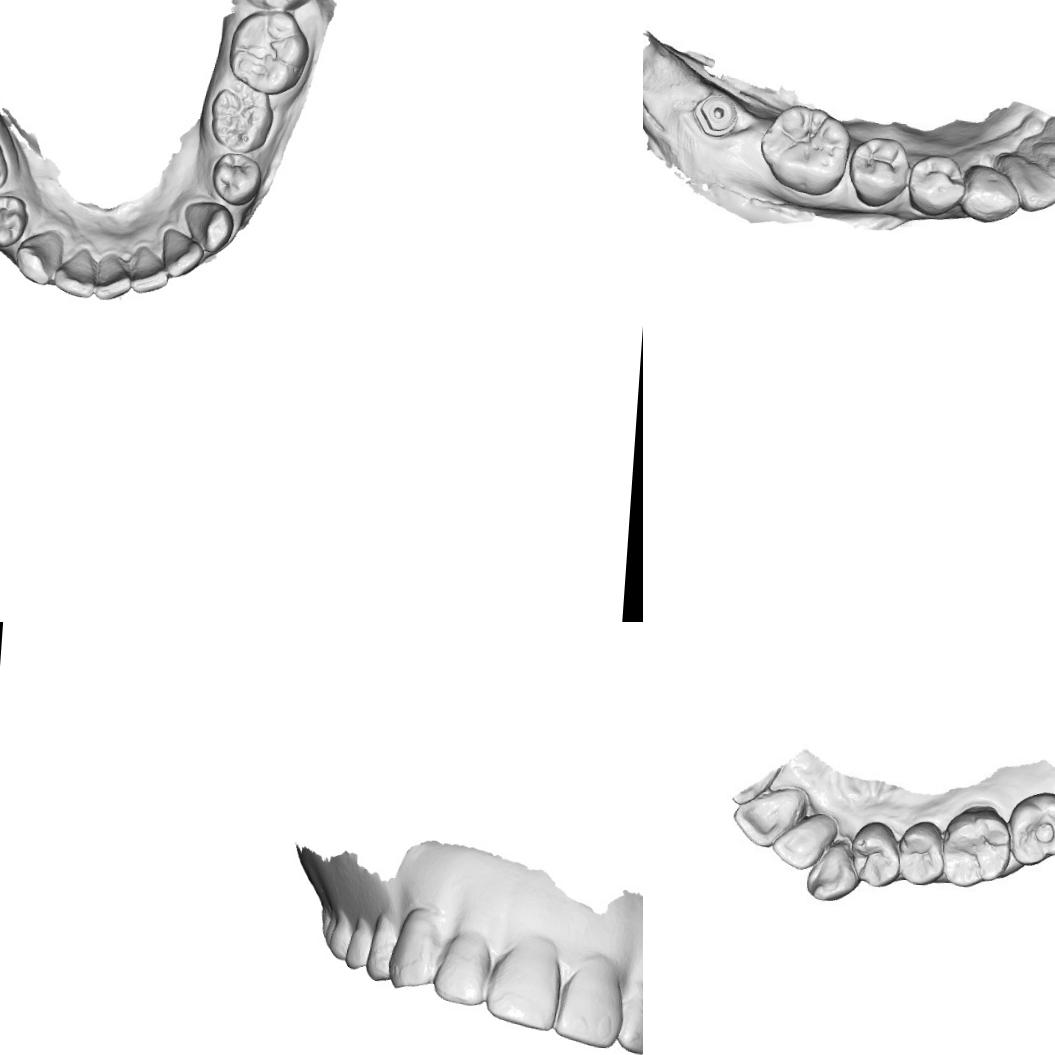canine: (387, 903, 438, 990), (958, 159, 1023, 226), (805, 842, 858, 904), (13, 226, 66, 287), (180, 198, 236, 254)
implant: (686, 88, 744, 143)
incisor: (482, 935, 562, 1032), (551, 958, 625, 1052), (430, 930, 496, 1008), (728, 786, 805, 849), (769, 814, 831, 871), (999, 150, 1055, 212), (49, 244, 98, 302), (158, 226, 206, 279), (88, 255, 136, 302), (616, 981, 643, 1055), (127, 252, 171, 294), (1030, 132, 1055, 194)
molar: (763, 102, 851, 198), (224, 6, 314, 98), (940, 802, 1014, 892), (206, 80, 277, 156), (1003, 787, 1055, 870), (324, 912, 352, 964)
premolar: (851, 134, 909, 209), (893, 815, 949, 888), (847, 820, 904, 890), (907, 153, 962, 220), (207, 149, 265, 208), (365, 914, 394, 982), (0, 189, 29, 252), (342, 916, 371, 974)
